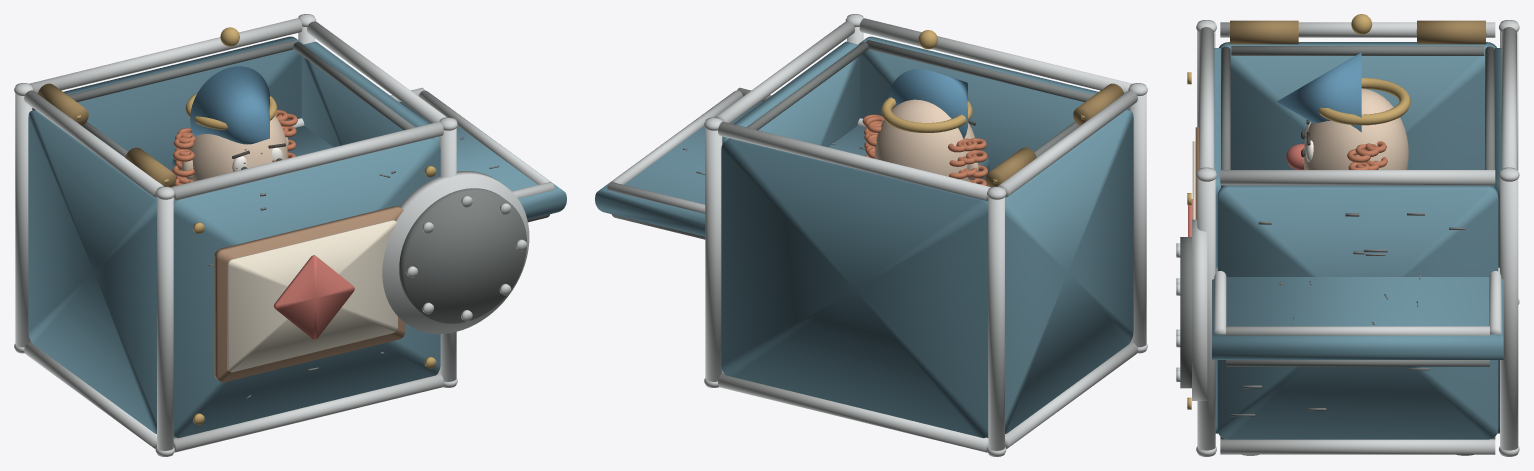
Rendered from jack-in-the-box-v3-realistic.glb.
3 views of the same model, side by side, from view 1: azimuth 30°, elevation 25°; view 2: azimuth 150°, elevation 25°; view 3: azimuth 270°, elevation 25° (orthographic). The views are drawn at different scales.
Parts seen in each view (by area): view 1: H_front_panel_000, H_side_panel_002, H_ivory_faceplate_026, H_bearing_ring_055, H_rear_panel_001, H_side_panel_003, H_front_inset_025, H_bearing_plate_054, J_hat_cone_045, H_corner_trim_008, H_rail_x_022, L_outer_shell_000 (+15 smaller); view 2: H_rear_panel_001, H_side_panel_002, H_front_panel_000, L_outer_shell_000, H_side_panel_003, J_head_004, H_corner_trim_005, H_corner_trim_011, H_rail_x_021, H_rail_x_017, H_rail_x_022, H_corner_trim_008 (+11 smaller); view 3: H_side_panel_003, L_outer_shell_000, H_side_panel_002, H_corner_trim_011, J_head_004, H_rail_z_020, H_rail_z_024, J_hat_cone_045, H_corner_trim_014, H_bearing_plate_054, L_rim_side_005, H_inner_lip_046 (+17 smaller).
Boxes of the visible parts, box(x1,y1,x2,y2) form: H_front_panel_000: box(173, 138, 440, 438); H_side_panel_002: box(28, 110, 156, 433); H_ivory_faceplate_026: box(227, 220, 397, 372); H_bearing_ring_055: box(399, 188, 526, 323); H_rear_panel_001: box(32, 36, 303, 176); H_side_panel_003: box(301, 41, 439, 147); H_front_inset_025: box(214, 206, 405, 382); H_bearing_plate_054: box(382, 171, 529, 333); J_hat_cone_045: box(190, 66, 269, 144); H_corner_trim_008: box(157, 186, 173, 456); H_rail_x_022: box(171, 122, 443, 200); L_outer_shell_000: box(172, 95, 566, 219); H_rear_panel_001: box(721, 138, 988, 438); H_side_panel_002: box(1005, 110, 1133, 433); H_front_panel_000: box(858, 36, 1129, 185); L_outer_shell_000: box(595, 95, 989, 236); H_side_panel_003: box(722, 41, 860, 147); J_head_004: box(874, 99, 977, 181); H_corner_trim_005: box(988, 186, 1004, 456); H_corner_trim_011: box(705, 117, 722, 387); H_rail_x_021: box(718, 122, 990, 200); H_rail_x_017: box(718, 373, 988, 452); H_rail_x_022: box(859, 18, 1132, 93); H_corner_trim_008: box(1129, 83, 1146, 353); H_side_panel_003: box(1217, 185, 1498, 439); L_outer_shell_000: box(1212, 277, 1503, 359); H_side_panel_002: box(1219, 42, 1496, 186); H_corner_trim_011: box(1500, 167, 1518, 456); J_head_004: box(1304, 88, 1408, 169); H_rail_z_020: box(1220, 439, 1495, 454); H_rail_z_024: box(1220, 170, 1495, 185); J_hat_cone_045: box(1276, 52, 1361, 132); H_corner_trim_014: box(1197, 167, 1215, 456); H_bearing_plate_054: box(1192, 219, 1207, 400); L_rim_side_005: box(1226, 326, 1489, 335); H_inner_lip_046: box(1231, 46, 1484, 55).
Bounding box in the file's own units: 1.85 × 1.5 × 1.25.
